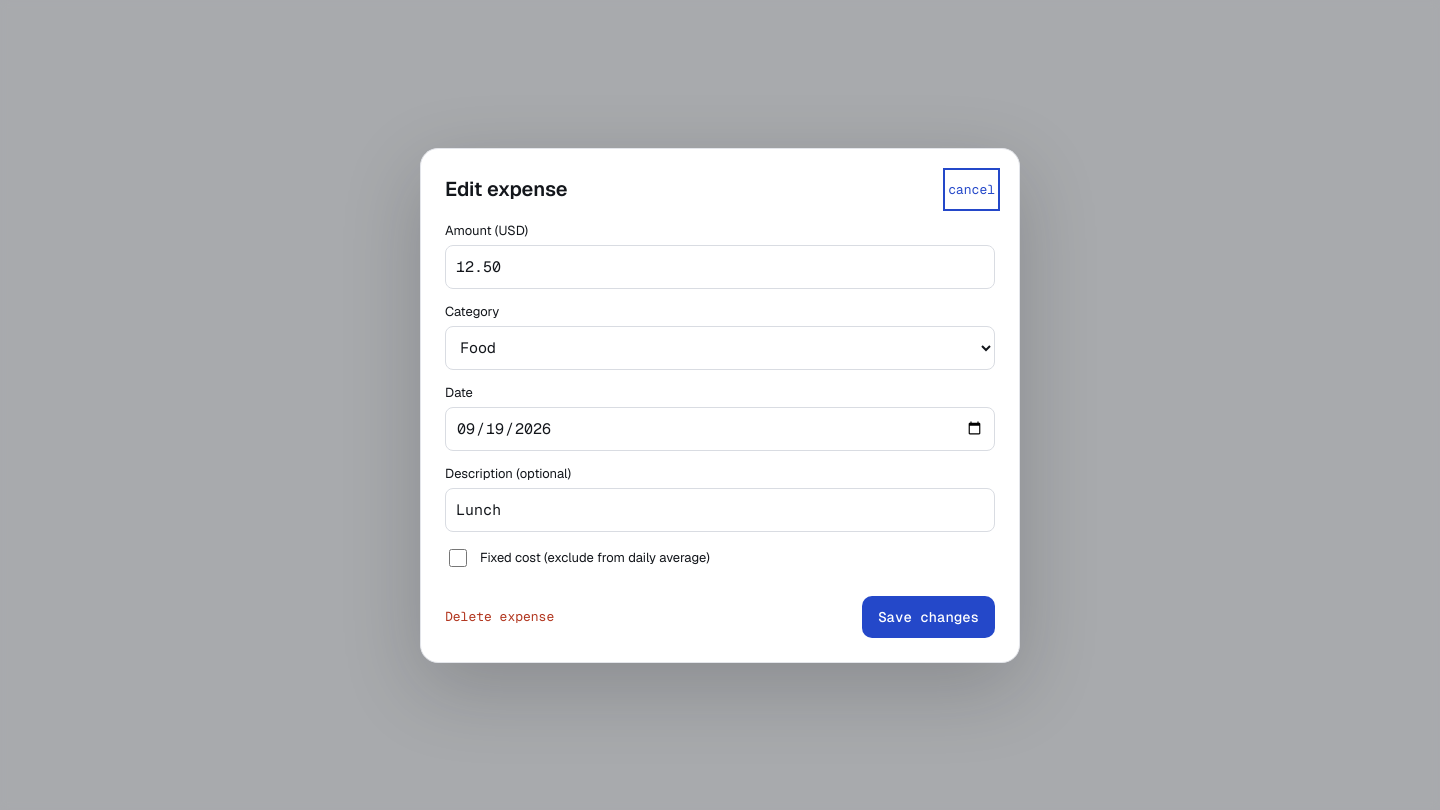
it: explains invalid amount no money without saving
The width and height of the screenshot is (1440, 810).
Replace the text in the field labelled "Amount (USD)" with "no money" at (720, 266), box top-left (445, 244), bottom-right (995, 288)
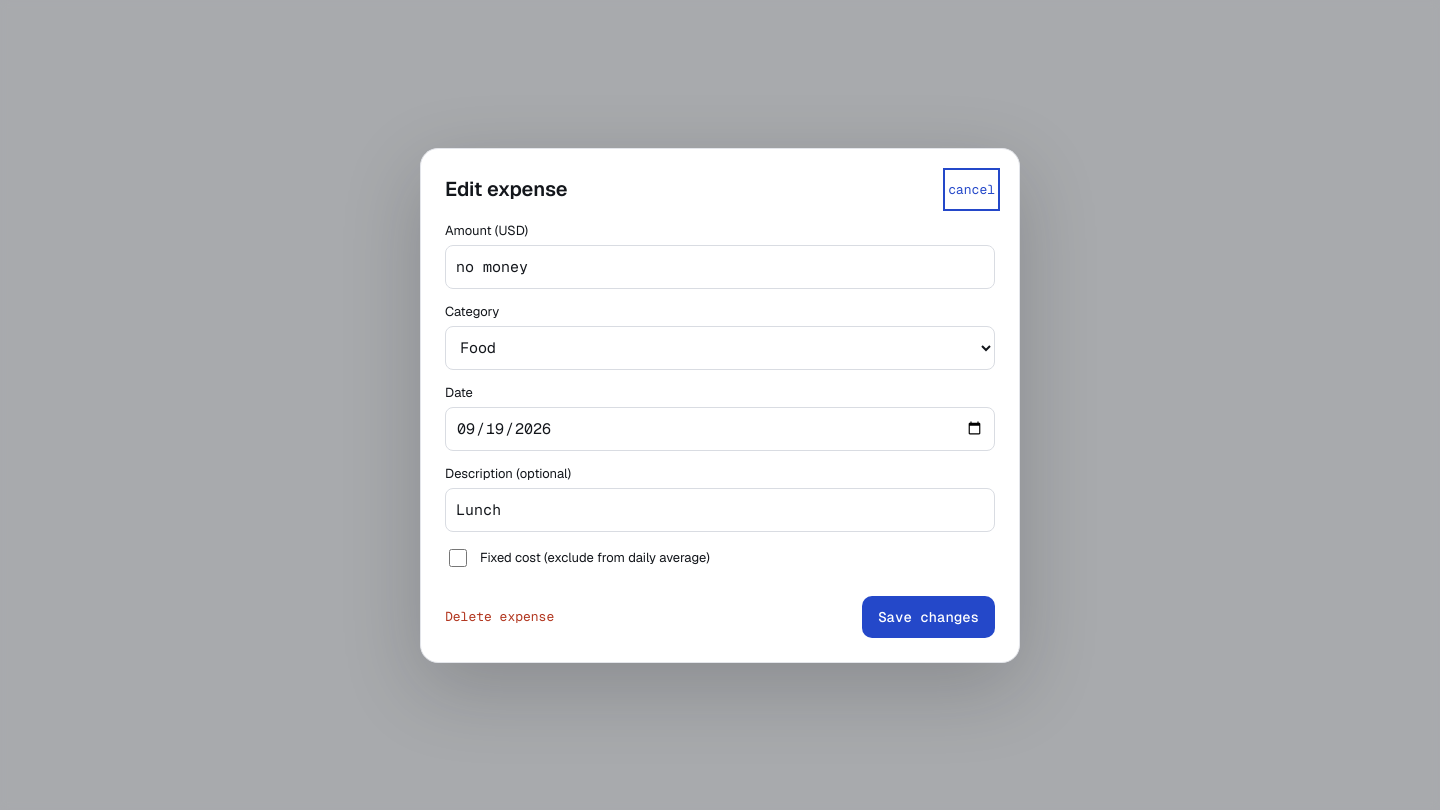
Click the button "Save changes" at (929, 616), box top-left (862, 596), bottom-right (995, 638)
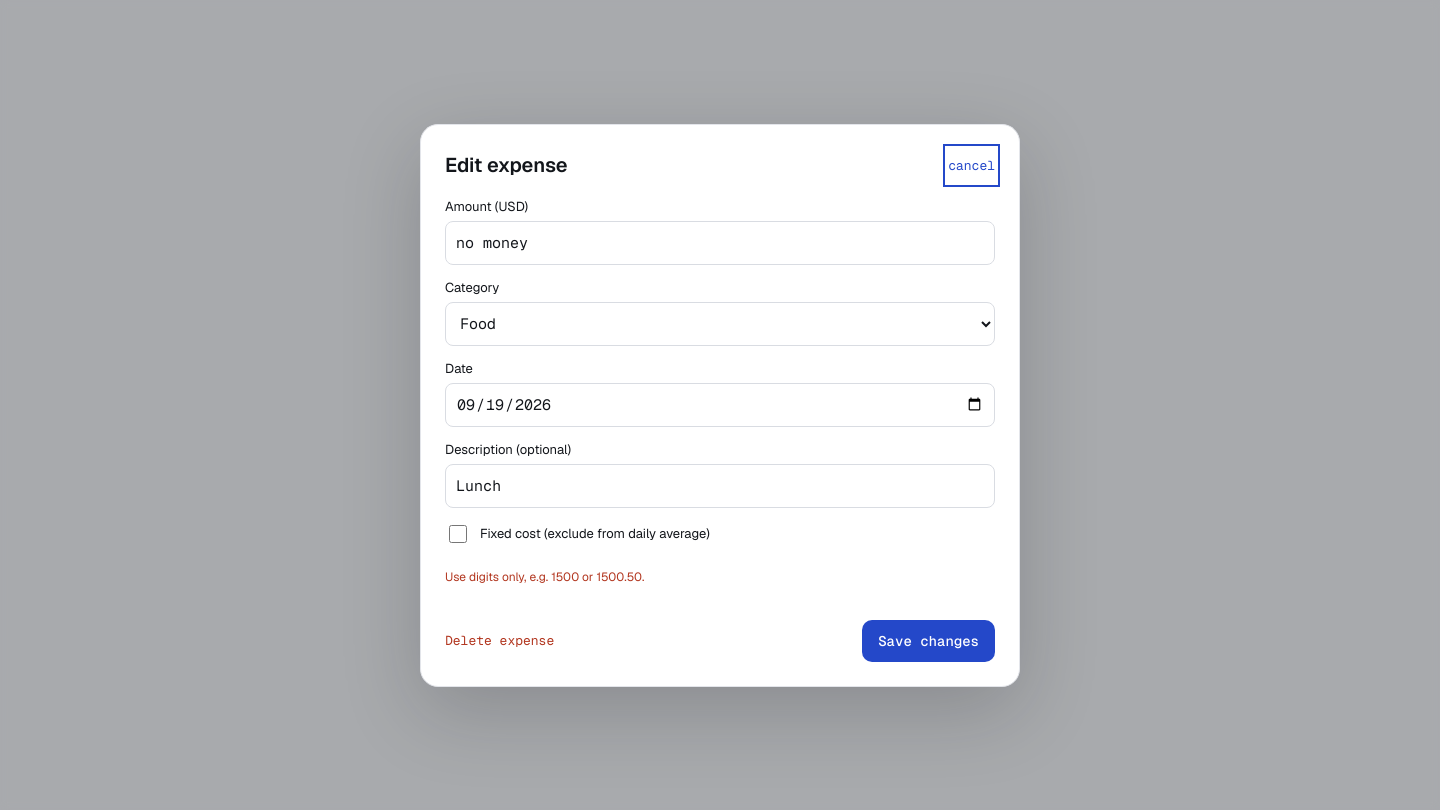
expect the message reads "Use digits only, e.g. 1500 or 1500.50.": met, box top-left (445, 568), bottom-right (644, 584)
